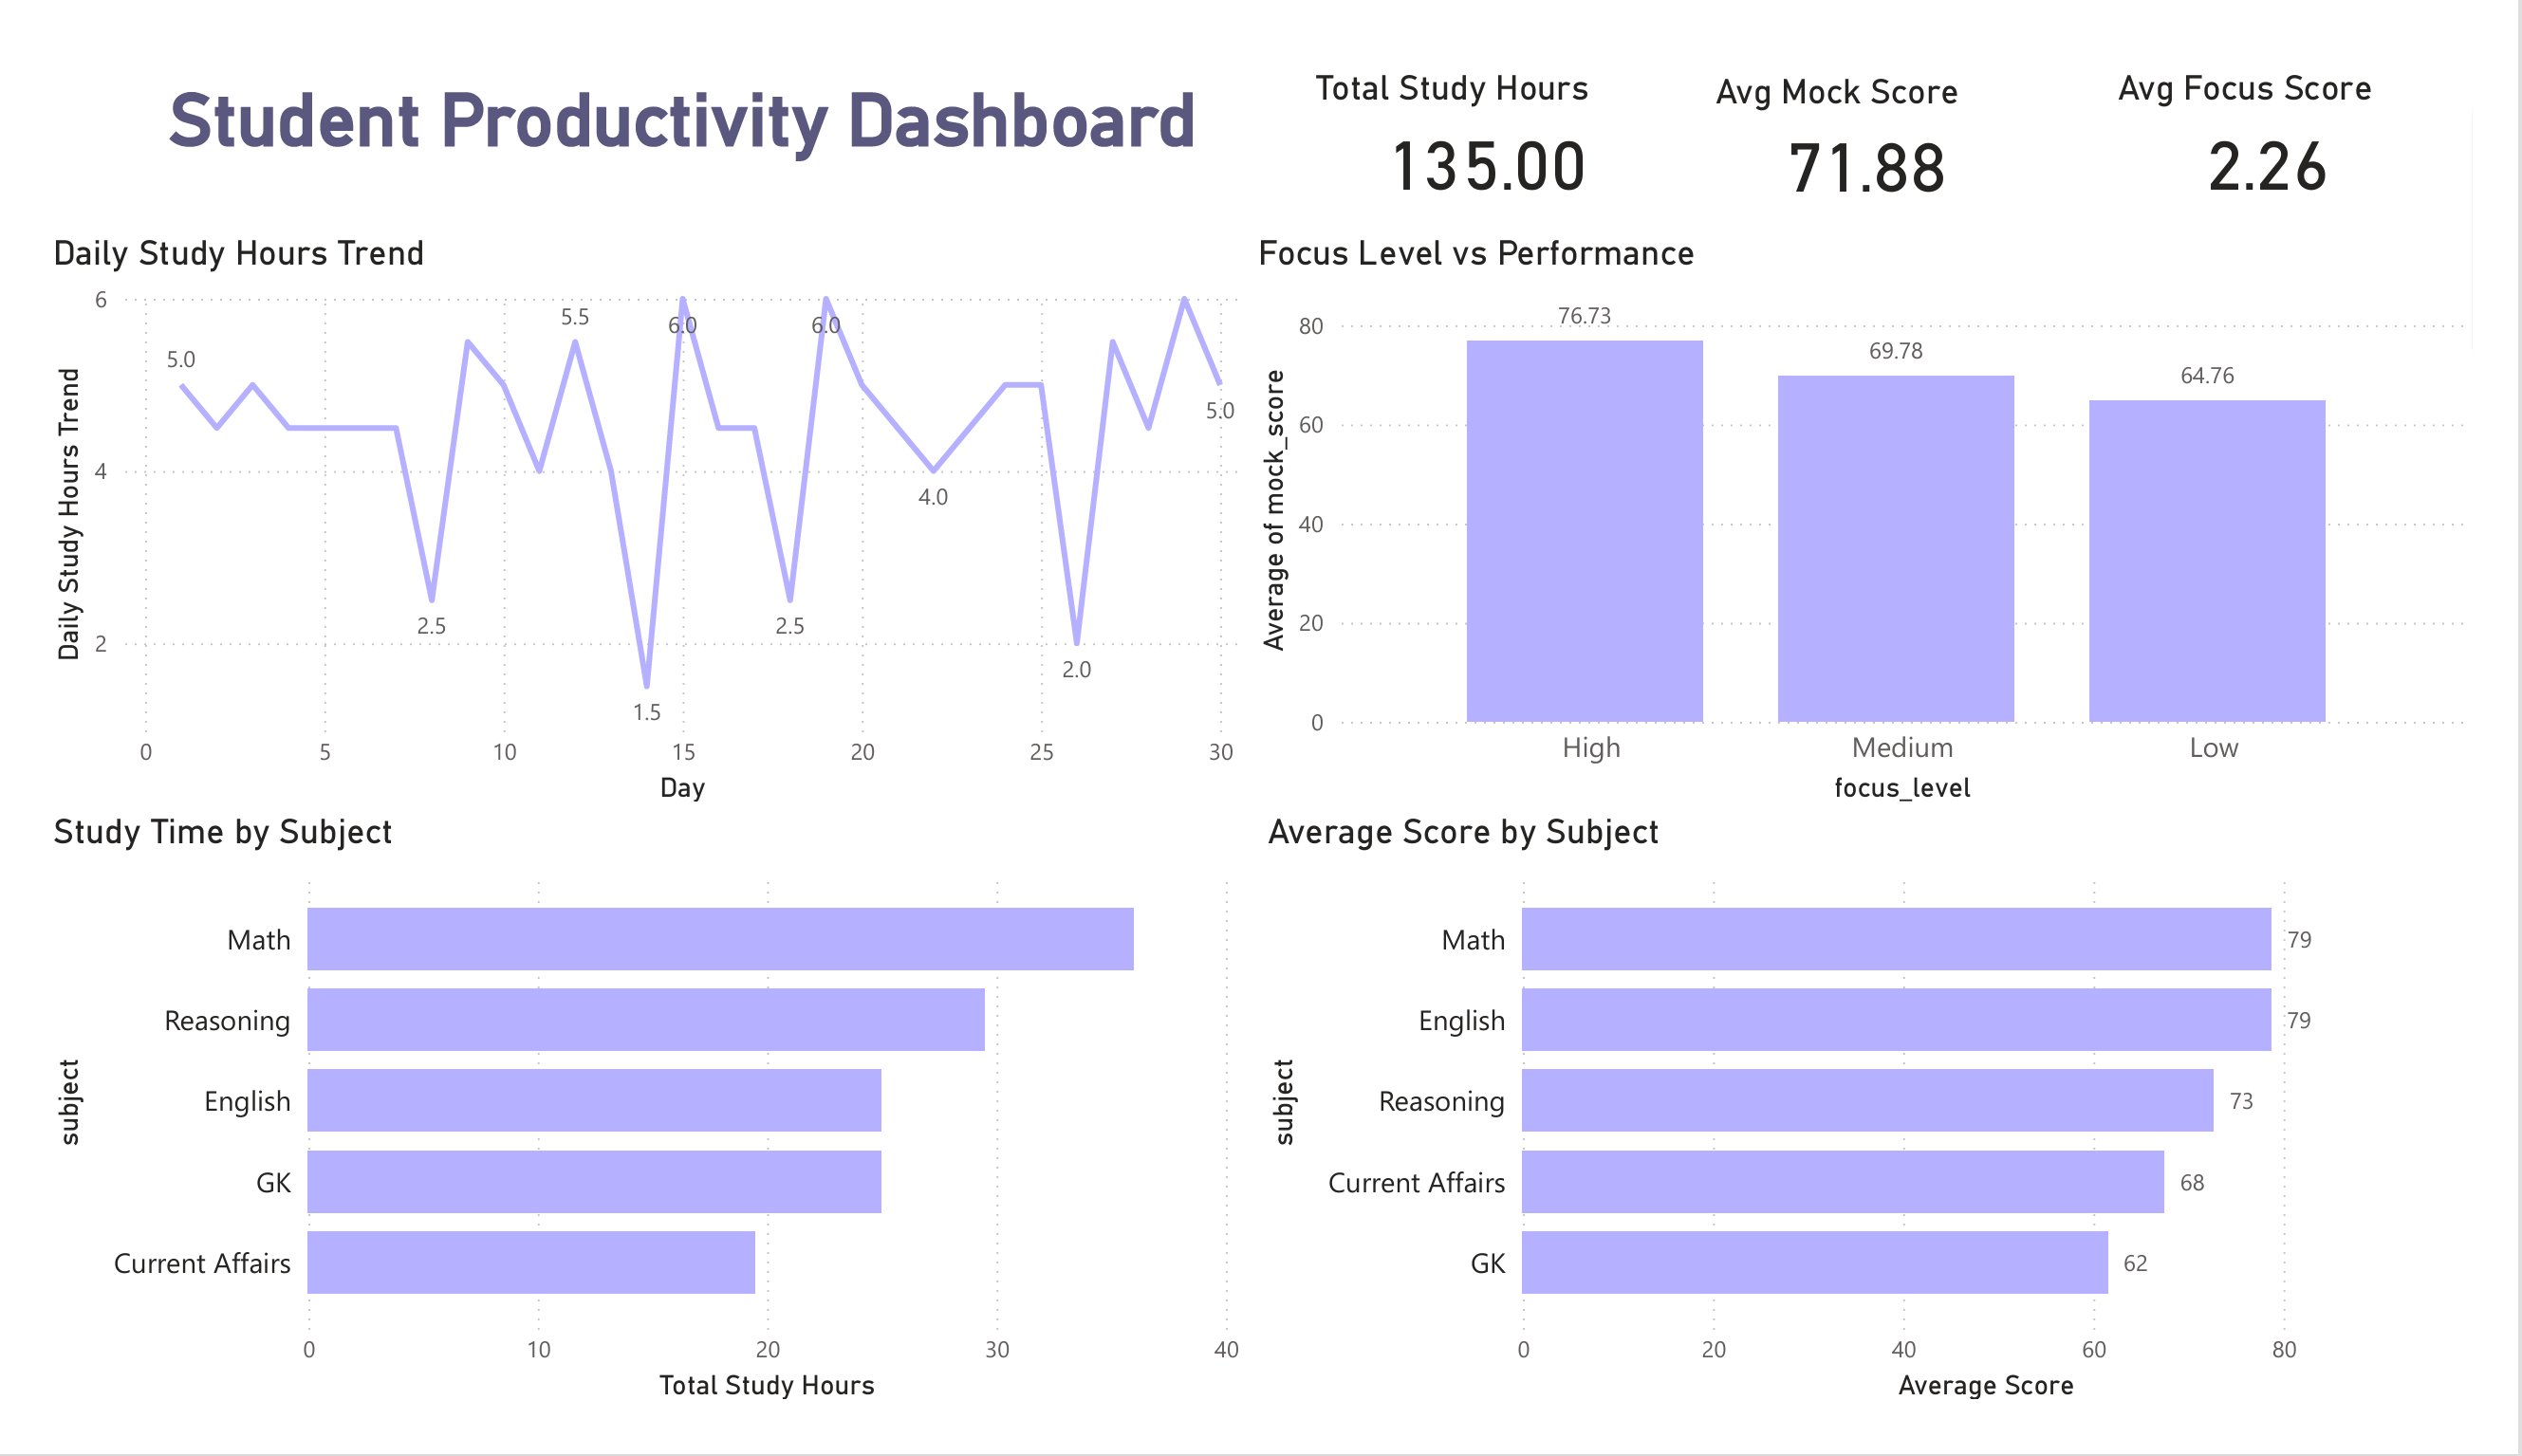

This screenshot's page, from the dashboard's own definition file:
{"tool":"powerbi","page":{"name":"Page 1","canvas":[1280,720],"ordinal":0},"visuals":[{"type":"lineChart","title":"Daily Study Hours Trend","fields":{"Y":["Sum(public daily_progress.daily_hours)"],"Category":["public daily_progress.date.Variation.Date Hierarchy.Year","public daily_progress.date.Variation.Date Hierarchy.Quarter","public daily_progress.date.Variation.Date Hierarchy.Month","public daily_progress.date.Variation.Date Hierarchy.Day"]},"box":[0,100,635,305],"z":0},{"type":"barChart","title":"Study Time by Subject","fields":{"Y":["Sum(public student_productivity_summary.total_hours)"],"Category":["public student_productivity_summary.subject"]},"box":[0,405,635,315],"z":1000},{"type":"barChart","title":"Average Score by Subject","fields":{"Category":["public student_productivity_summary.subject"],"Y":["Sum(public student_productivity_summary.avg_score)"]},"box":[640,405,640,315],"z":2000},{"type":"columnChart","title":"Focus Level vs Performance","fields":{"Category":["public student_productivity.focus_level"],"Y":["Avg(public student_productivity.mock_score)"]},"box":[635,100,645,305],"z":3000},{"type":"card","title":"Total Study Hours ","fields":{"Values":["Sum(public student_productivity_summary.total_hours)"]},"box":[665,12.5,191.2,76.2],"z":4000},{"type":"card","title":"Avg Mock Score ","fields":{"Values":["Avg(public student_productivity_summary.avg_score)"]},"box":[876.2,15,168.8,73.8],"z":5000},{"type":"card","title":"Avg Focus Score","fields":{"Values":["Avg(public student_productivity_summary.avg_focus)"]},"box":[1087.5,12.5,168.8,76.2],"z":6000},{"type":"textbox","box":[38.8,12.5,596.2,55],"z":7000}]}

Visuals, with their boxes in screenshot pixels (x1, y1, x2, y2), scaled from the page's 1280x720 canvas onto the 2522x1456 screenshot:
"Daily Study Hours Trend" lineChart: rect(0, 202, 1252, 819)
"Study Time by Subject" barChart: rect(0, 819, 1252, 1455)
"Average Score by Subject" barChart: rect(1261, 819, 2521, 1455)
"Focus Level vs Performance" columnChart: rect(1252, 202, 2521, 819)
"Total Study Hours " card: rect(1310, 26, 1687, 179)
"Avg Mock Score " card: rect(1726, 30, 2059, 179)
"Avg Focus Score" card: rect(2142, 26, 2476, 179)
textbox: rect(77, 26, 1252, 137)
